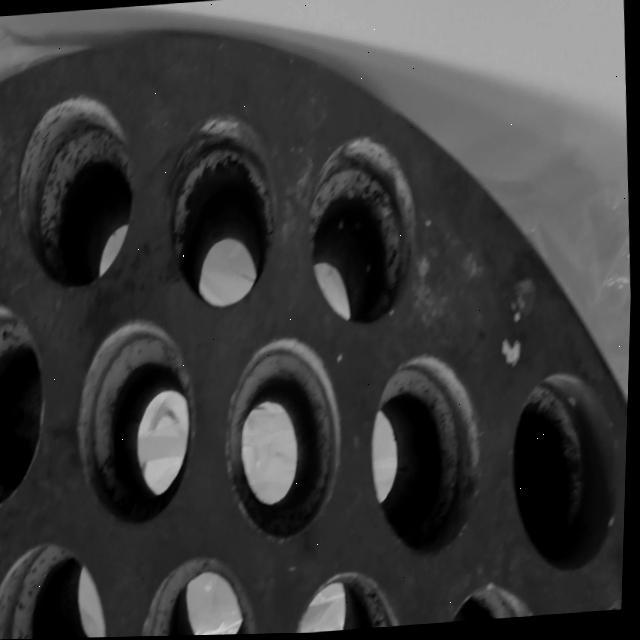Hole: (73, 317, 207, 535), (220, 336, 352, 548), (9, 92, 142, 294), (365, 353, 491, 565), (303, 134, 427, 336), (506, 372, 627, 579), (163, 111, 284, 314), (0, 299, 55, 512), (0, 539, 115, 640), (132, 559, 260, 637)
